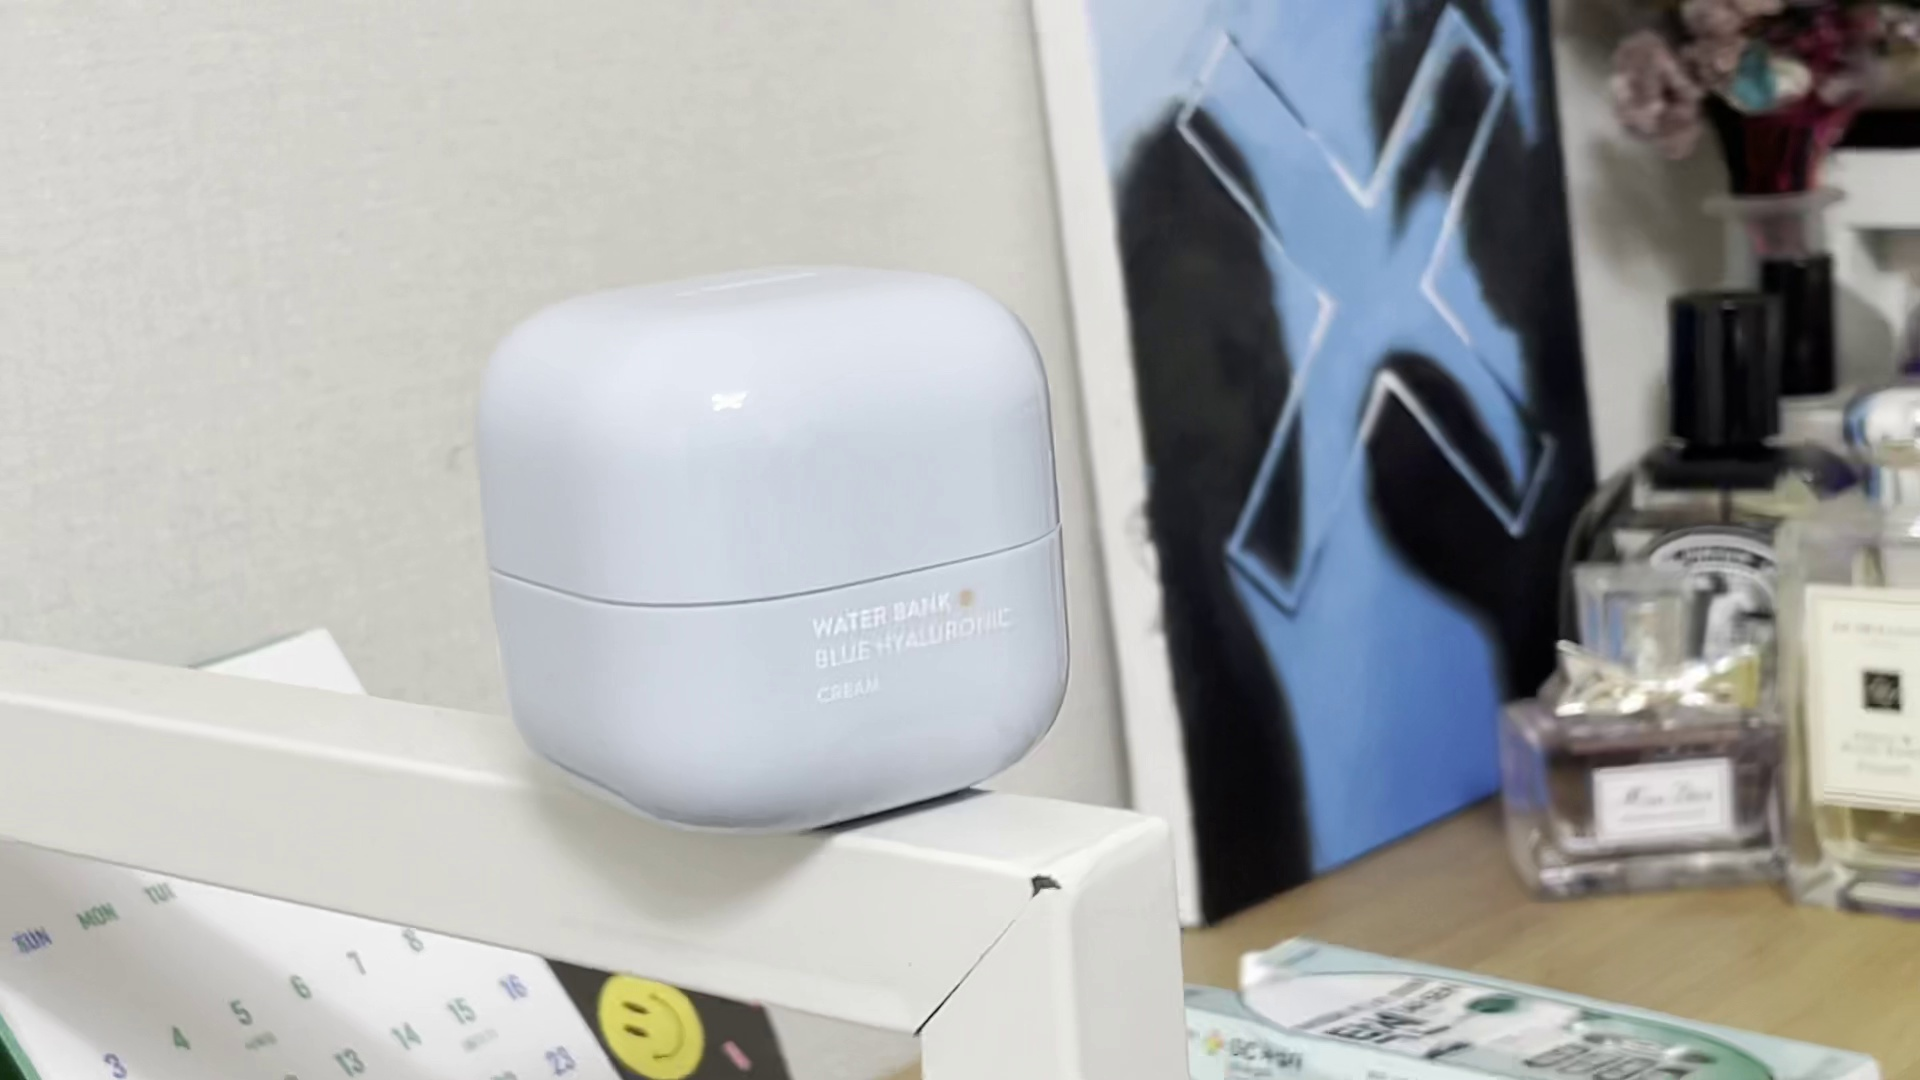cream: (469, 260, 1077, 833)
